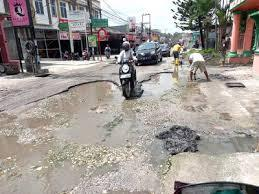Pothole: (3, 76, 259, 194)
